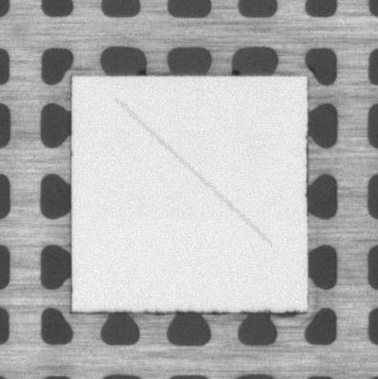DIE_CRACK: (116, 99, 271, 245)
